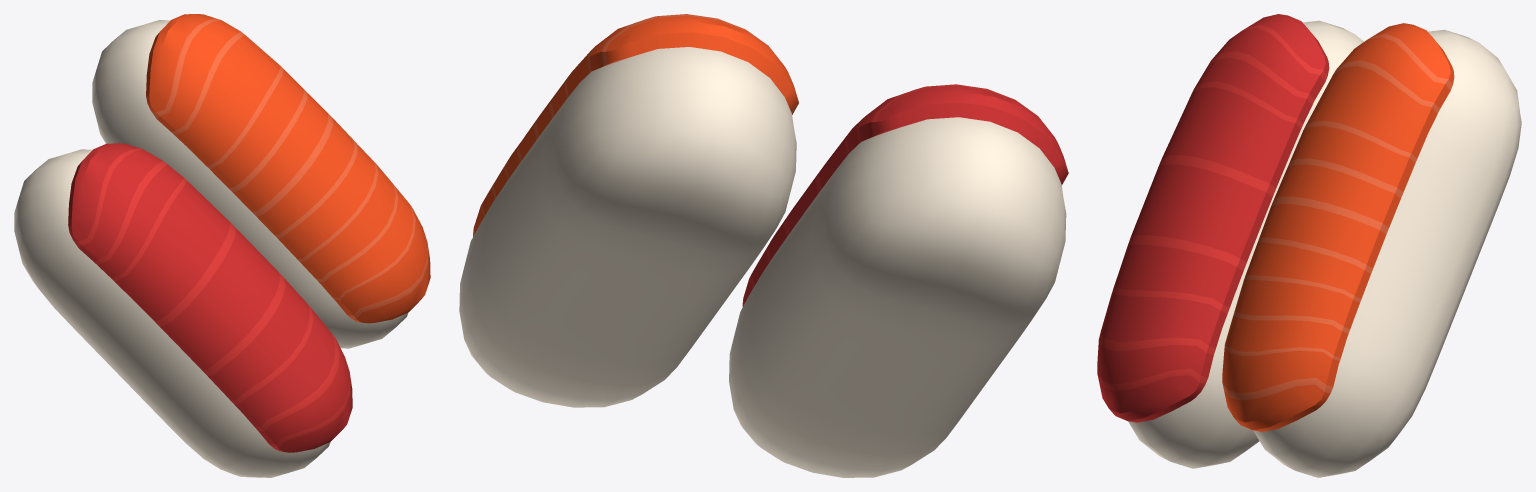
Rendered from sushi.glb.
3 renders of one model, left to right at view 1: azimuth 30°, elevation 25°; view 2: azimuth 150°, elevation 25°; view 3: azimuth 270°, elevation 25°, orthographic. The views are drawn at different scales.
Parts seen in each view (by area): view 1: Cube.425; view 2: Cube.425; view 3: Cube.425.
Part boxes in pixels (x1,y1,x2,y2): Cube.425: [14, 14, 430, 477]; Cube.425: [459, 14, 1068, 477]; Cube.425: [1097, 14, 1521, 477].
Size of the model in its own units: 2.27 by 2.1 by 1.86.
Materials: 1 (1 with a texture image).
